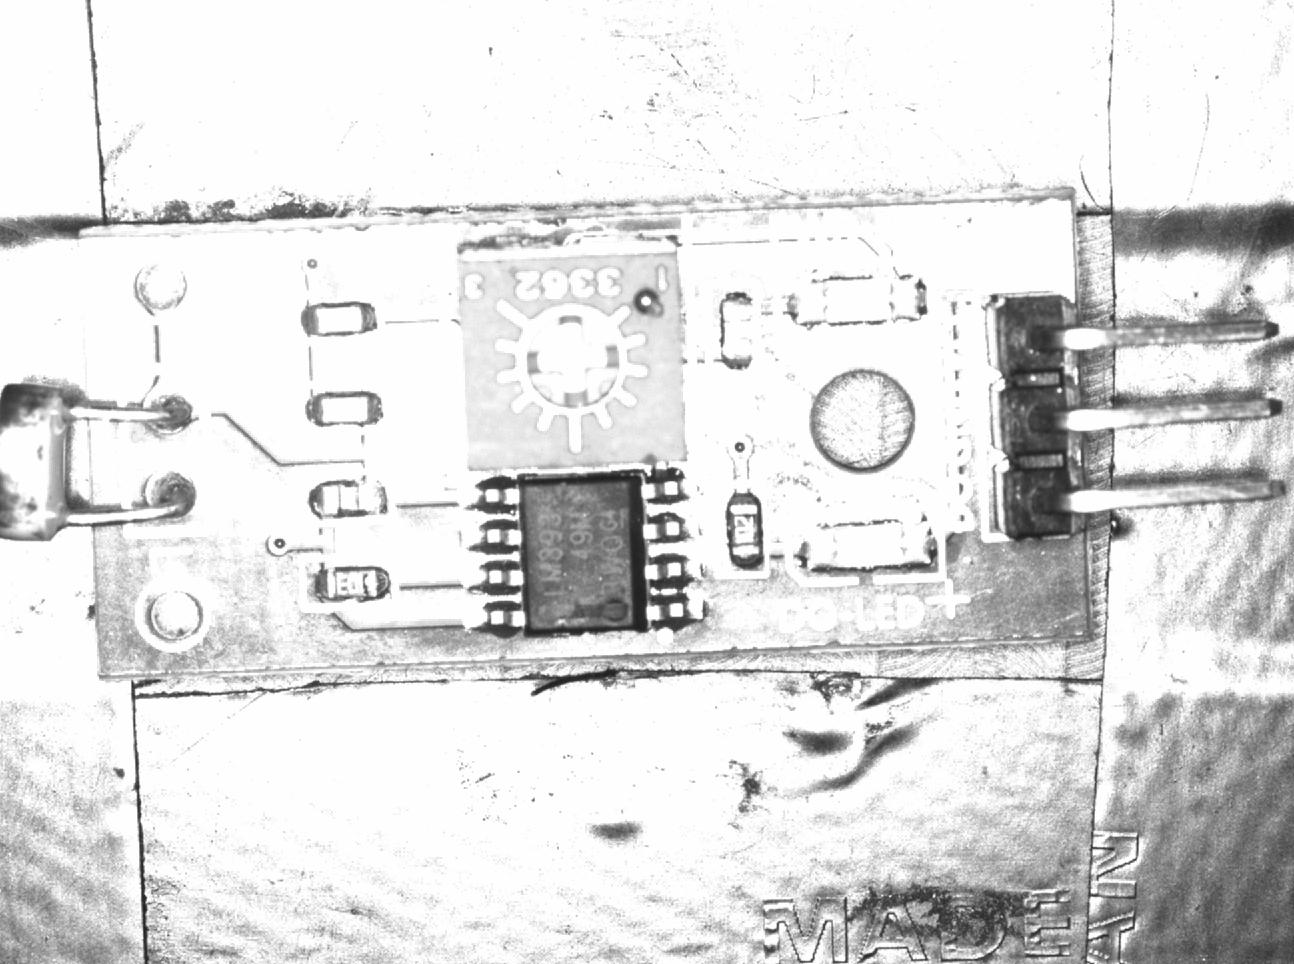miss: (710, 282, 765, 384), (304, 469, 391, 526)
ok: (299, 558, 400, 620), (711, 483, 773, 576), (290, 290, 385, 346), (293, 384, 389, 434)
